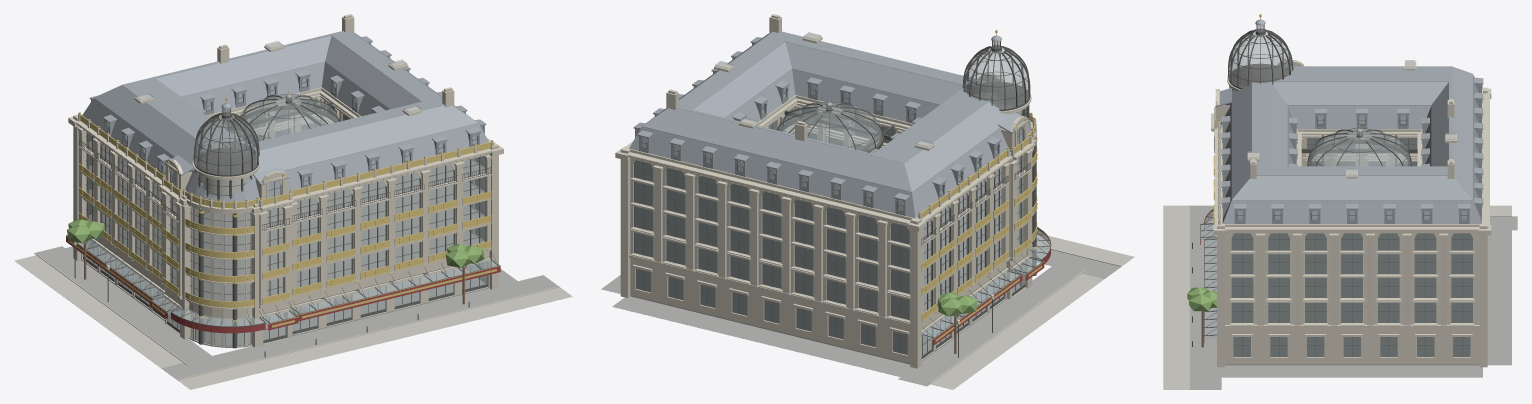
File: clay-grand-magasin-clay-v004.glb
3 views of the same model, side by side, from view 1: azimuth 30°, elevation 25°; view 2: azimuth 150°, elevation 25°; view 3: azimuth 270°, elevation 25° (orthographic). The views are drawn at different scales.
Visible parts, largest first — view 1: CLAY_ZINC, CLAY_STONE, CLAY_GLASS, CLAY_FLOOR, CLAY_FOUNDATION, CLAY_GILT, CLAY_HARDWARE, CLAY_TRIM, CLAY_CONCRETE, CLAY_WALL, CLAY_SIGNBAND, CLAY_PLANTING (+1 smaller); view 2: CLAY_ZINC, CLAY_STONE, CLAY_GLASS, CLAY_TRIM, CLAY_FOUNDATION, CLAY_WALL, CLAY_HARDWARE, CLAY_CONCRETE, CLAY_GILT, CLAY_FLOOR, CLAY_PLANTING, CLAY_SIGNBAND; view 3: CLAY_ZINC, CLAY_STONE, CLAY_GLASS, CLAY_TRIM, CLAY_FOUNDATION, CLAY_WALL, CLAY_CONCRETE, CLAY_HARDWARE, CLAY_PLANTING, CLAY_GILT.
Boxes of the visible parts, x1=… form: CLAY_ZINC: x1=82, y1=31, x2=488, y2=201; CLAY_STONE: x1=36, y1=16, x2=559, y2=380; CLAY_GLASS: x1=78, y1=41, x2=498, y2=345; CLAY_FLOOR: x1=86, y1=143, x2=484, y2=301; CLAY_FOUNDATION: x1=34, y1=246, x2=558, y2=379; CLAY_GILT: x1=66, y1=91, x2=500, y2=327; CLAY_HARDWARE: x1=66, y1=94, x2=500, y2=357; CLAY_TRIM: x1=83, y1=77, x2=488, y2=346; CLAY_CONCRETE: x1=14, y1=255, x2=572, y2=389; CLAY_WALL: x1=85, y1=87, x2=489, y2=282; CLAY_SIGNBAND: x1=66, y1=236, x2=500, y2=333; CLAY_PLANTING: x1=67, y1=219, x2=484, y2=267; CLAY_ZINC: x1=629, y1=31, x2=1031, y2=218; CLAY_STONE: x1=615, y1=16, x2=1121, y2=383; CLAY_GLASS: x1=634, y1=32, x2=1050, y2=355; CLAY_TRIM: x1=634, y1=86, x2=1025, y2=359; CLAY_FOUNDATION: x1=601, y1=247, x2=1120, y2=386; CLAY_WALL: x1=628, y1=95, x2=1023, y2=320; CLAY_HARDWARE: x1=777, y1=41, x2=1051, y2=357; CLAY_CONCRETE: x1=930, y1=234, x2=1134, y2=389; CLAY_GILT: x1=828, y1=29, x2=1050, y2=341; CLAY_FLOOR: x1=924, y1=158, x2=1020, y2=312; CLAY_PLANTING: x1=937, y1=292, x2=977, y2=316; CLAY_SIGNBAND: x1=933, y1=228, x2=1050, y2=345; CLAY_ZINC: x1=1216, y1=19, x2=1483, y2=223; CLAY_STONE: x1=1189, y1=60, x2=1511, y2=389; CLAY_GLASS: x1=1201, y1=25, x2=1472, y2=356; CLAY_TRIM: x1=1231, y1=118, x2=1472, y2=356; CLAY_FOUNDATION: x1=1189, y1=205, x2=1517, y2=389; CLAY_WALL: x1=1221, y1=89, x2=1482, y2=324; CLAY_CONCRETE: x1=1163, y1=205, x2=1511, y2=389; CLAY_HARDWARE: x1=1192, y1=25, x2=1417, y2=346; CLAY_PLANTING: x1=1187, y1=287, x2=1216, y2=311; CLAY_GILT: x1=1204, y1=14, x2=1360, y2=226.
Bounding box in the file's own units: 60 × 35.35 × 48.75.
